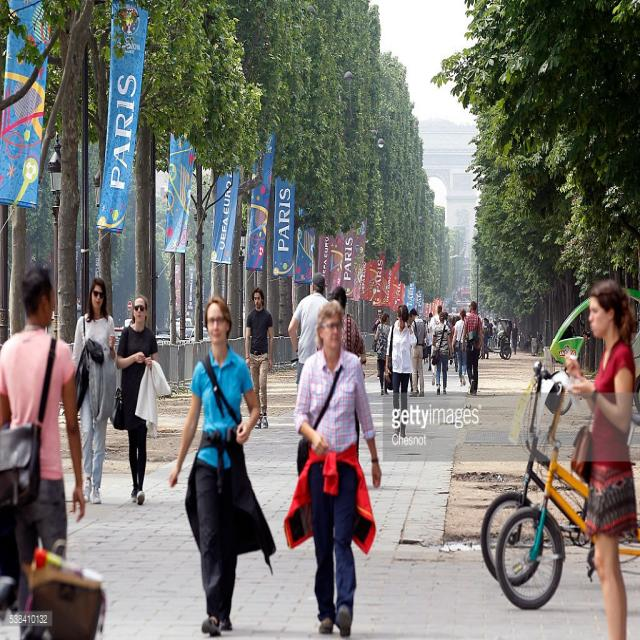body: (167, 293, 279, 639), (282, 297, 382, 639), (0, 266, 87, 640), (562, 277, 640, 639), (68, 275, 118, 508), (115, 293, 160, 507), (314, 284, 368, 459), (287, 271, 330, 393), (383, 302, 417, 440), (244, 285, 275, 431), (461, 299, 485, 396), (432, 310, 454, 396), (372, 309, 392, 398), (408, 309, 426, 397), (409, 307, 426, 399), (429, 304, 447, 386), (451, 306, 468, 386), (432, 310, 450, 378), (508, 329, 546, 354), (371, 307, 384, 378), (424, 312, 434, 372), (450, 314, 460, 372), (483, 318, 502, 348), (447, 312, 457, 364), (421, 318, 431, 367), (482, 316, 490, 360), (510, 321, 519, 356), (534, 329, 541, 352)
